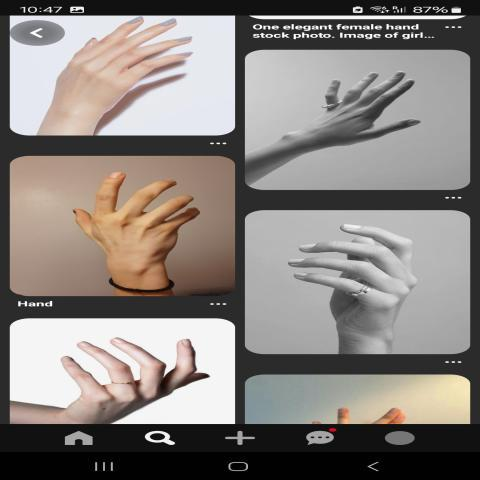Hands: (58, 157, 226, 287), (276, 216, 440, 344), (46, 17, 206, 125), (42, 326, 222, 412), (283, 59, 426, 163)
